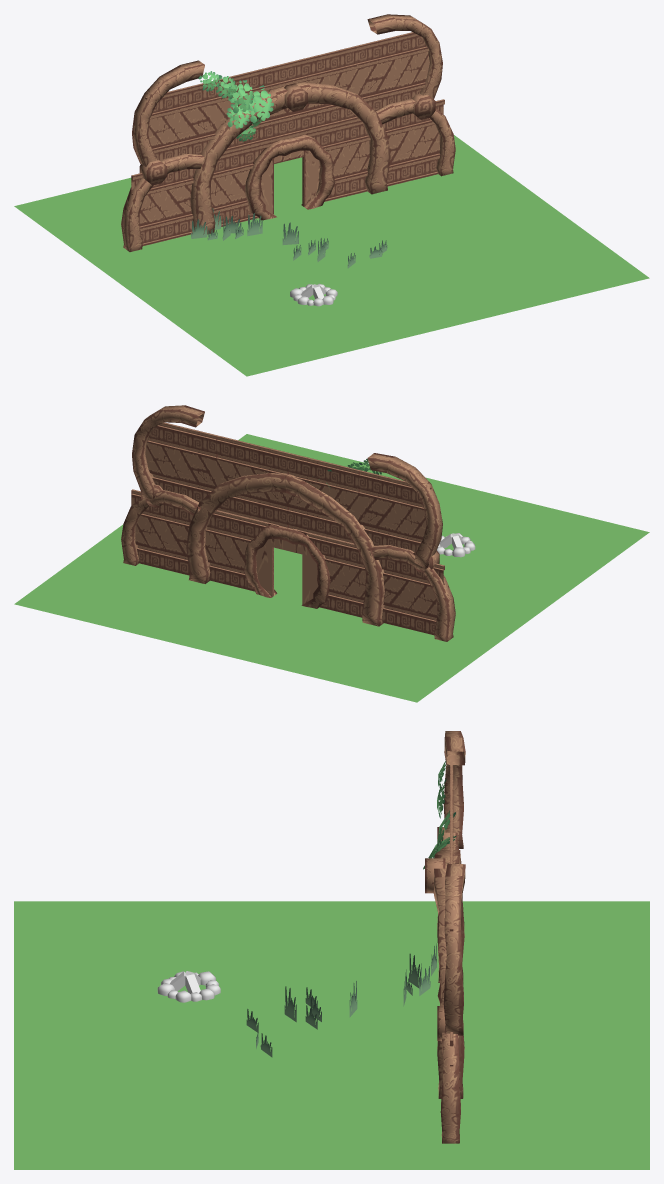
Rendered from environment test.fbx.
3 renders of one model, top to bottom at view 1: azimuth 30°, elevation 25°; view 2: azimuth 150°, elevation 25°; view 3: azimuth 270°, elevation 25°, orthographic. The views are drawn at different scales.
Visible parts, largest first — view 1: ground, Plane.003, Plane.001, Cube.028, Cube.026, Cube.027, Plane.002, Cube.029, Cube.024, campt fire, ball moss, Cube.025; view 2: ground, Plane.003, Plane.001, Cube.028, Cube.026, Cube.027, Plane.002, Cube.029, campt fire; view 3: ground, Cube.026, Cube.028, Cube.027, campt fire.
Part boxes in pixels (x1=…): ground: x1=14, y1=135, x2=649, y2=376; Plane.003: x1=145, y1=32, x2=429, y2=161; Plane.001: x1=131, y1=99, x2=444, y2=245; Cube.028: x1=190, y1=82, x2=390, y2=234; Cube.026: x1=132, y1=14, x2=442, y2=166; Cube.027: x1=121, y1=98, x2=455, y2=251; Plane.002: x1=244, y1=134, x2=335, y2=220; Cube.029: x1=260, y1=150, x2=320, y2=214; Cube.024: x1=139, y1=93, x2=435, y2=185; campt fire: x1=290, y1=283, x2=337, y2=306; ball moss: x1=243, y1=85, x2=273, y2=122; Cube.025: x1=284, y1=83, x2=307, y2=111; ground: x1=14, y1=434, x2=649, y2=702; Plane.003: x1=145, y1=422, x2=431, y2=552; Plane.001: x1=131, y1=489, x2=444, y2=635; Cube.028: x1=186, y1=473, x2=384, y2=626; Cube.026: x1=132, y1=405, x2=442, y2=568; Cube.027: x1=121, y1=490, x2=455, y2=641; Plane.002: x1=243, y1=524, x2=330, y2=608; Cube.029: x1=256, y1=539, x2=318, y2=604; campt fire: x1=437, y1=533, x2=475, y2=557; ground: x1=14, y1=901, x2=649, y2=1169; Cube.026: x1=443, y1=731, x2=465, y2=1035; Cube.028: x1=433, y1=850, x2=464, y2=1098; Cube.027: x1=440, y1=842, x2=460, y2=1143; campt fire: x1=157, y1=971, x2=220, y2=1002.
Bounding box in the file's own units: 4095 × 1744 × 4095.
